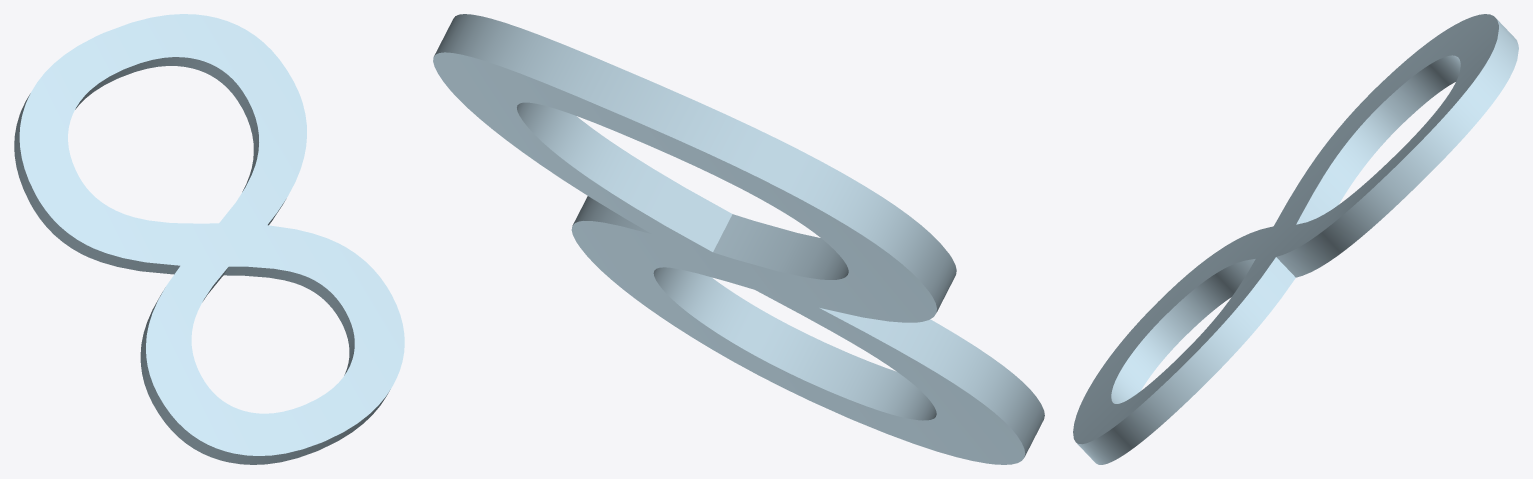
File: Number_8.gltf
3 renders of one model, left to right at view 1: azimuth 30°, elevation 25°; view 2: azimuth 150°, elevation 25°; view 3: azimuth 270°, elevation 25°, orthographic. The views are drawn at different scales.
Visible parts, largest first — view 1: Sub_2_Cell_3_1_Number_8; view 2: Sub_2_Cell_3_1_Number_8; view 3: Sub_2_Cell_3_1_Number_8.
Boxes of the visible parts, x1,y1,x2,y2 form: Sub_2_Cell_3_1_Number_8: (14, 14, 404, 464); Sub_2_Cell_3_1_Number_8: (433, 14, 1044, 464); Sub_2_Cell_3_1_Number_8: (1073, 14, 1518, 464).
Bounding box in the file's own units: 0.0174 × 0.0194 × 0.0193.
